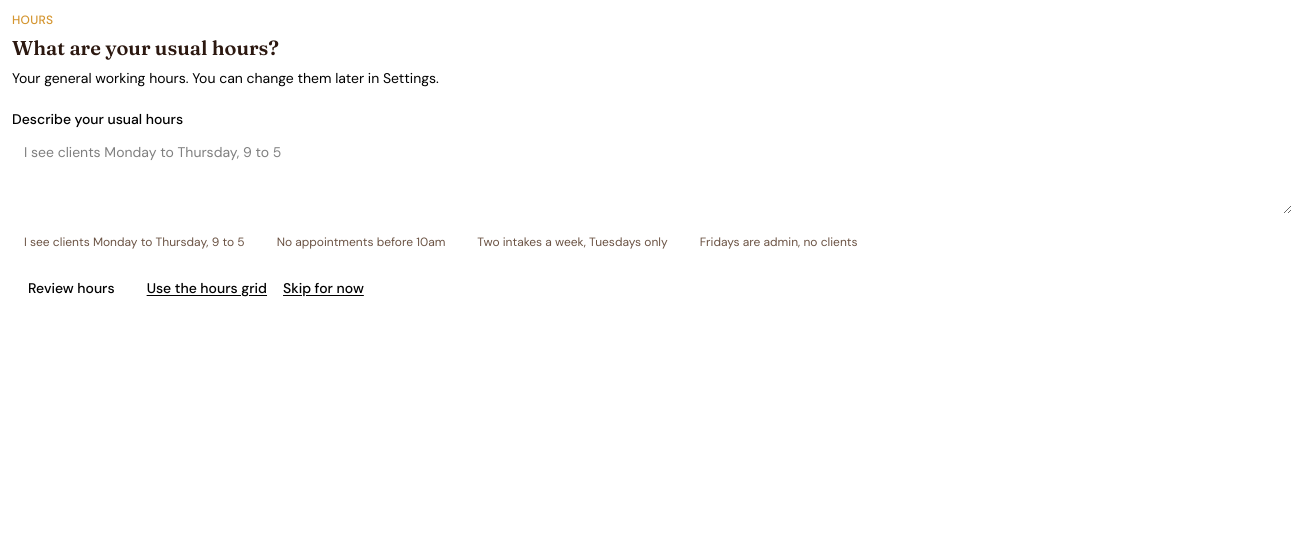
Test case: CalendarHoursStep › falls back to the grid once the parser is unsure twice running
Type "afternoons I guess" into the text box labelled "Describe your usual hours" at (652, 174), box [12,134,1292,214]
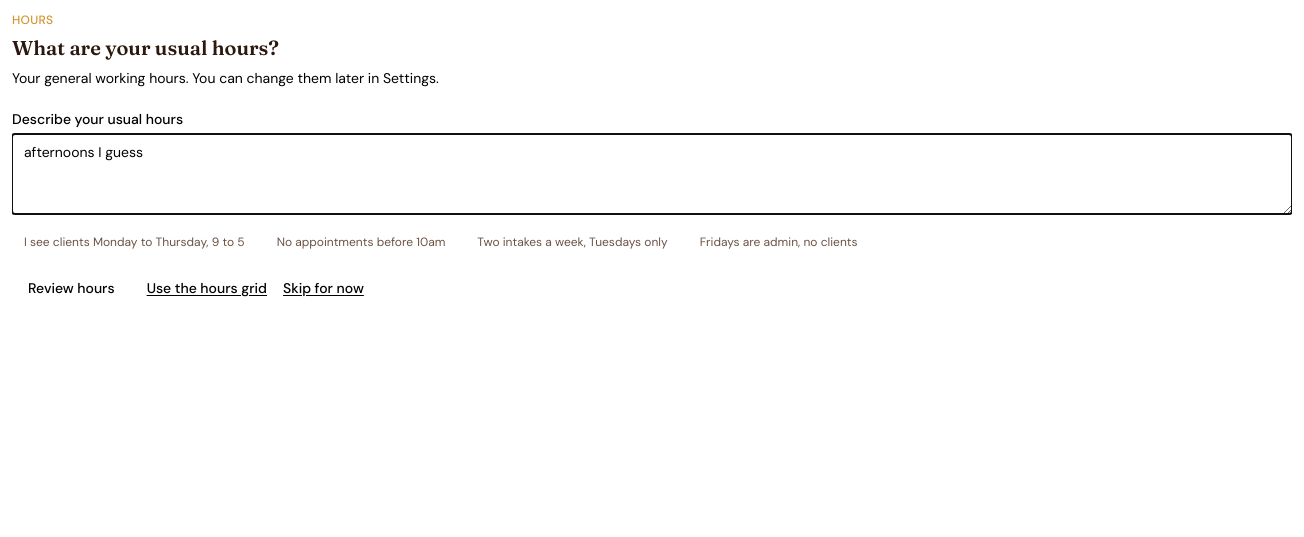
Click the button "Review hours" at (71, 288), box [12,270,131,306]
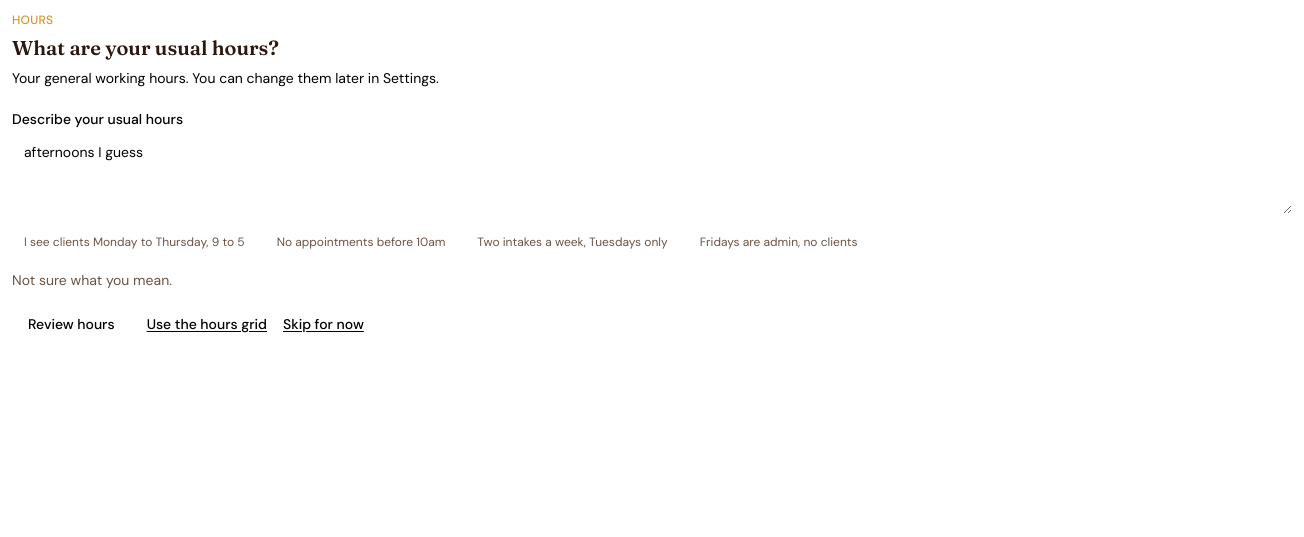
Now the text "Not sure what you mean." is shown, box [12,271,172,289]
Click the button "Review hours" at (71, 324), box [12,306,131,342]
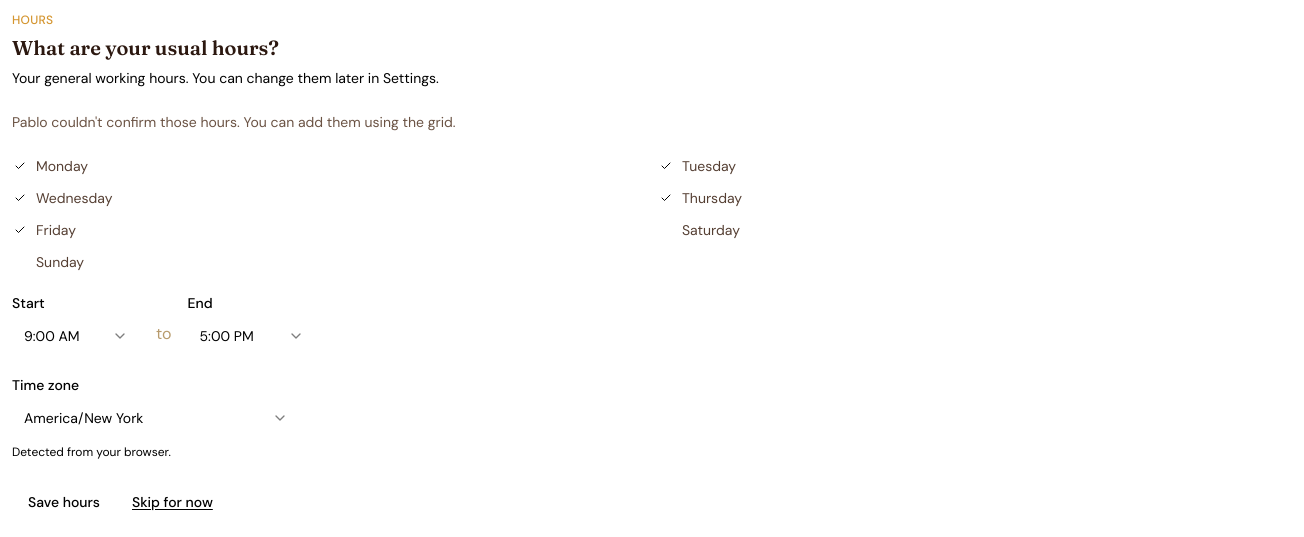
Expected: the checkbox named "Monday" next to "Monday" is shown, [12,158,28,174]
Now the button "Save hours" is shown, box [12,484,116,520]
